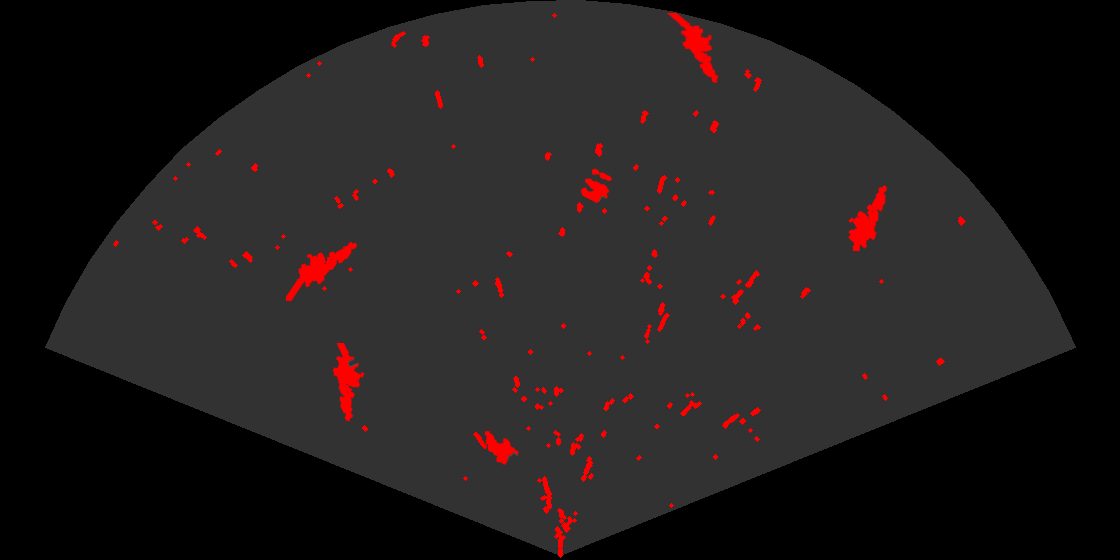AUV: (483, 429, 520, 466)
ball: (579, 167, 614, 205)
frogman: (286, 240, 359, 301), (665, 13, 720, 85), (331, 343, 366, 423), (847, 183, 888, 251)
